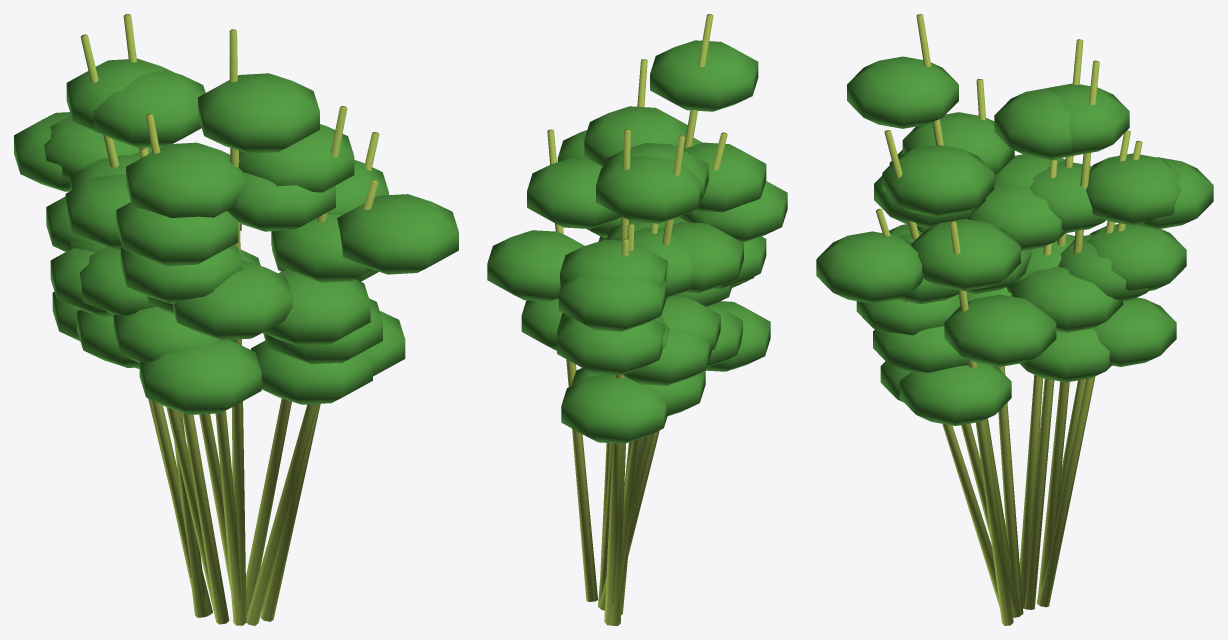
File: prop_rumpun_bambu.glb
3 renders of one model, left to right at view 1: azimuth 30°, elevation 25°; view 2: azimuth 150°, elevation 25°; view 3: azimuth 270°, elevation 25°, orthographic. The views are drawn at different scales.
Visible parts, largest first — view 1: rumpun_bambu; view 2: rumpun_bambu; view 3: rumpun_bambu.
Boxes of the visible parts, <box> form: rumpun_bambu: <box>14,14,458,625</box>; rumpun_bambu: <box>487,14,787,625</box>; rumpun_bambu: <box>816,14,1213,625</box>.
Size of the model in its own units: 3.61 by 7.52 by 4.72.
